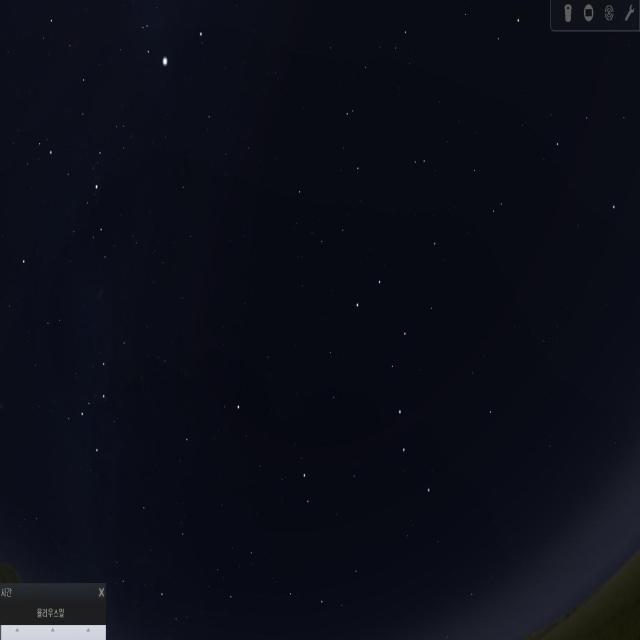cassiopeia: (64, 306, 142, 461)
ursa_major: (342, 254, 434, 496)
